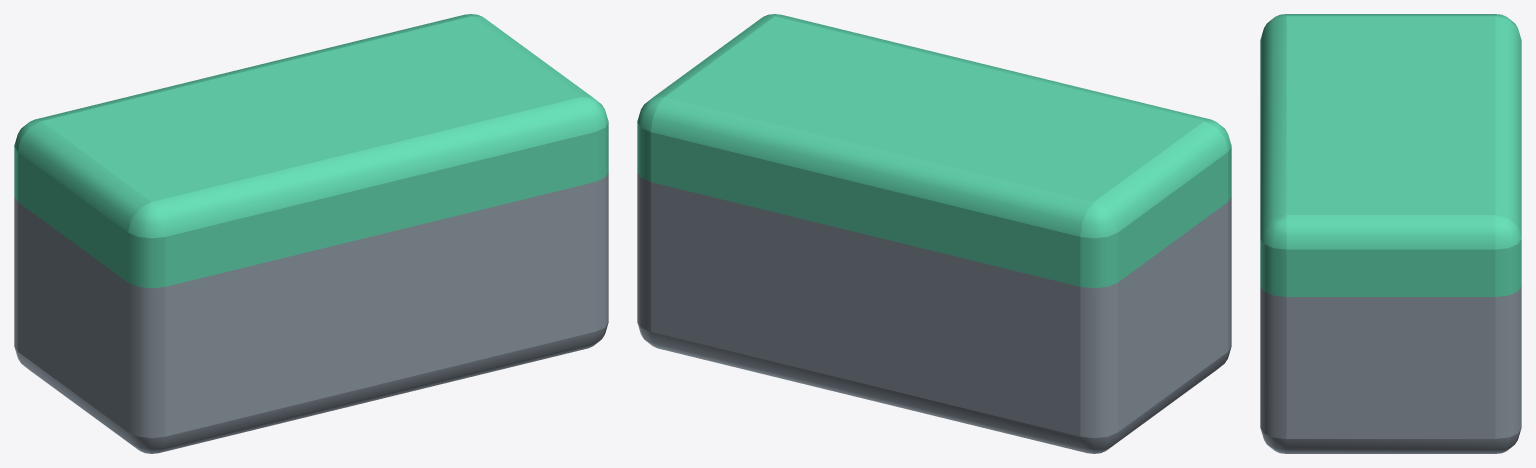
The model's file is GreyBlock.glb.
The picture shows the model from 3 angles, left to right: view 1: azimuth 30°, elevation 25°; view 2: azimuth 150°, elevation 25°; view 3: azimuth 270°, elevation 25°; orthographic projection. The views are drawn at different scales.
Parts seen in each view (by area): view 1: blockRoundedLong; view 2: blockRoundedLong; view 3: blockRoundedLong.
Part boxes in pixels (<box>): blockRoundedLong: <box>14,14,608,453</box>; blockRoundedLong: <box>637,14,1231,453</box>; blockRoundedLong: <box>1260,14,1521,453</box>.
Size of the model in its own units: 2 by 1 by 1.
